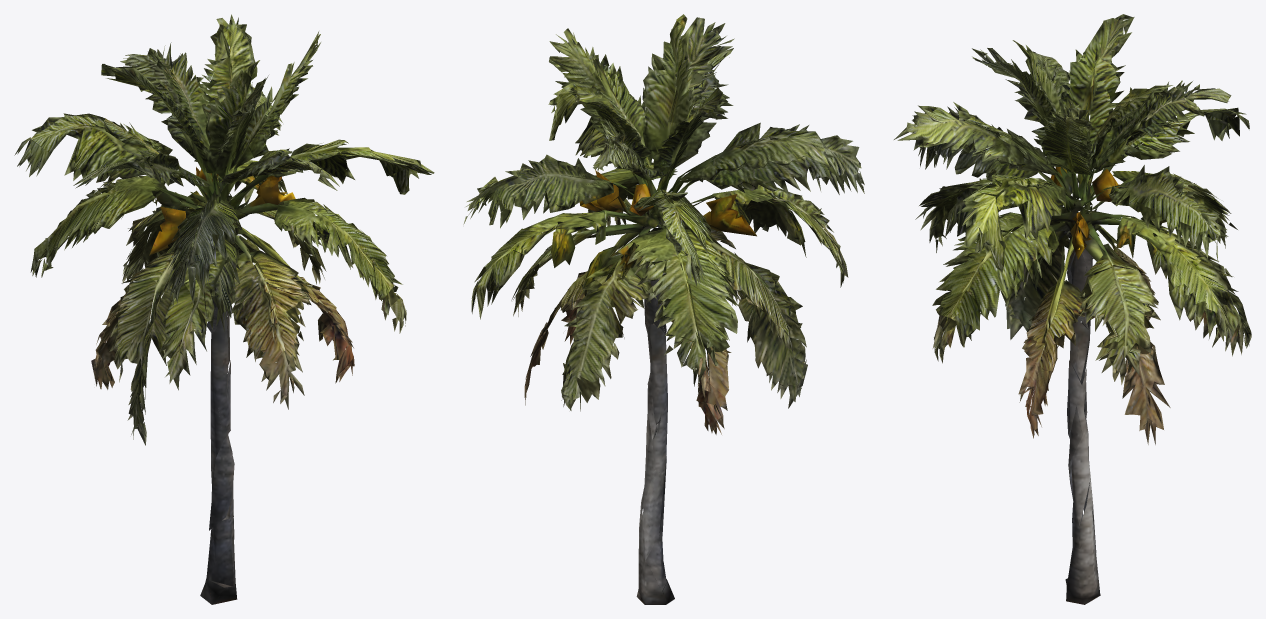
File: palm_tree_LOD1.fbx
The picture shows the model from 3 angles, left to right: view 1: azimuth 30°, elevation 25°; view 2: azimuth 150°, elevation 25°; view 3: azimuth 270°, elevation 25°; orthographic projection.
Visible parts, largest first — view 1: palm_tree.001; view 2: palm_tree.001; view 3: palm_tree.001.
Boxes of the visible parts, x1,y1,x2,y2 form: palm_tree.001: (14, 14, 434, 604); palm_tree.001: (463, 14, 864, 604); palm_tree.001: (894, 14, 1251, 604).
Size of the model in its own units: 5.99 by 10.01 by 5.81.
Materials: 1 (1 with a texture image).
